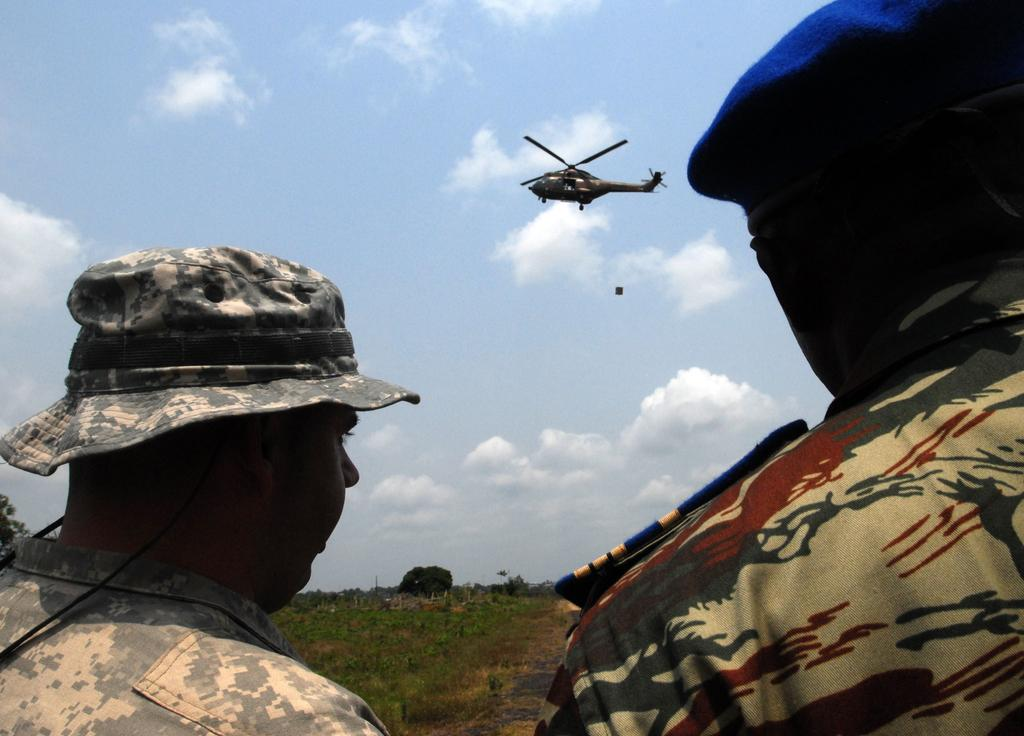Hat: (0, 248, 418, 475)
